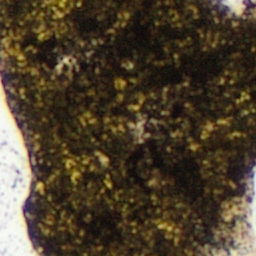cement_matrix: (0, 0, 255, 255)
gravel_crushed_stones: (0, 58, 41, 255), (212, 164, 255, 255), (219, 0, 255, 14)
